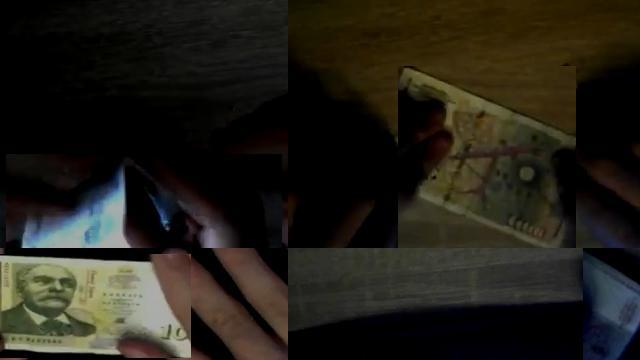10leva: (398, 66, 576, 248), (0, 254, 191, 358), (583, 248, 640, 360)
20leva: (17, 154, 265, 248)
